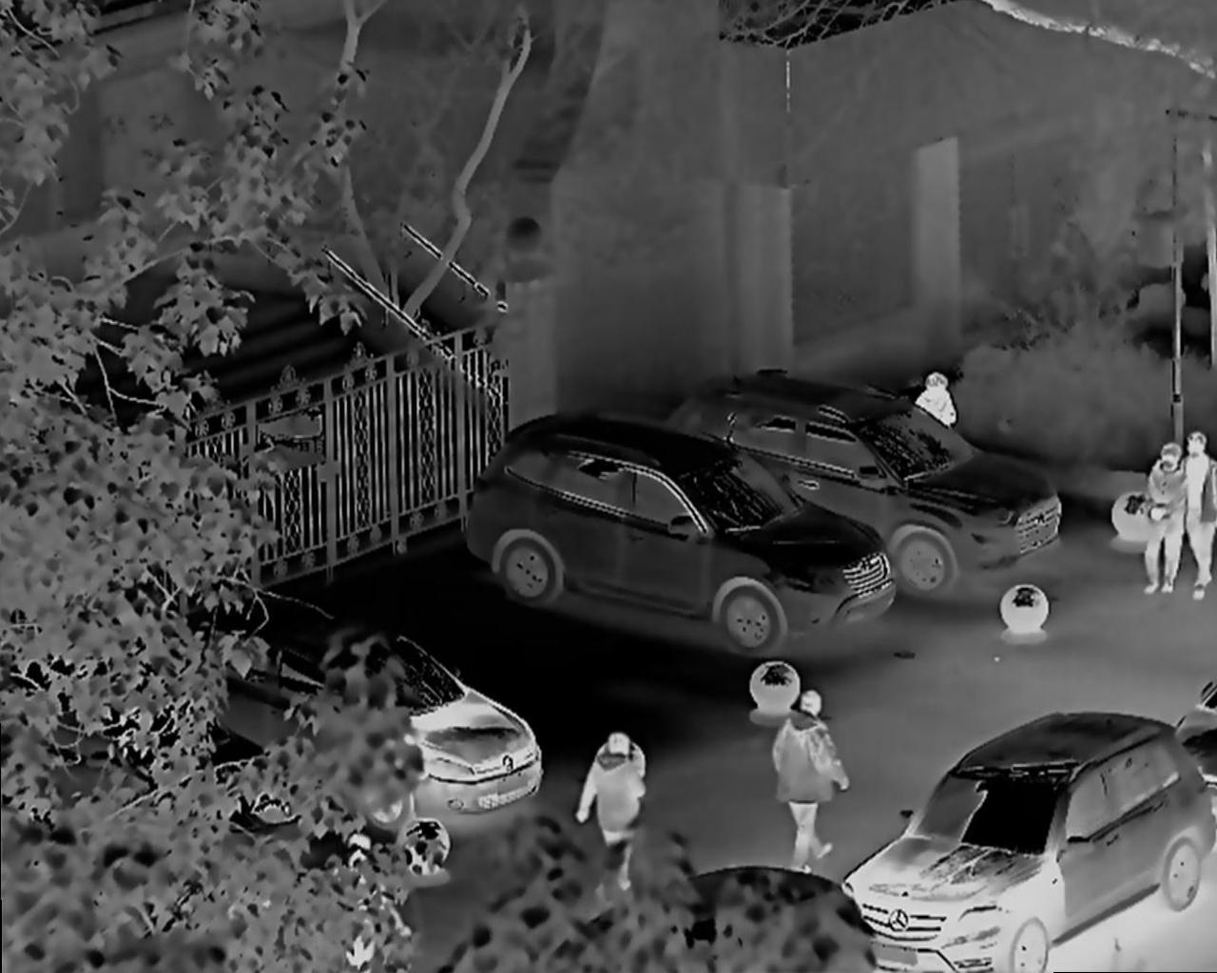person: (763, 676, 860, 861), (582, 719, 658, 889), (1144, 429, 1182, 614), (915, 359, 966, 493), (1182, 426, 1217, 607)
